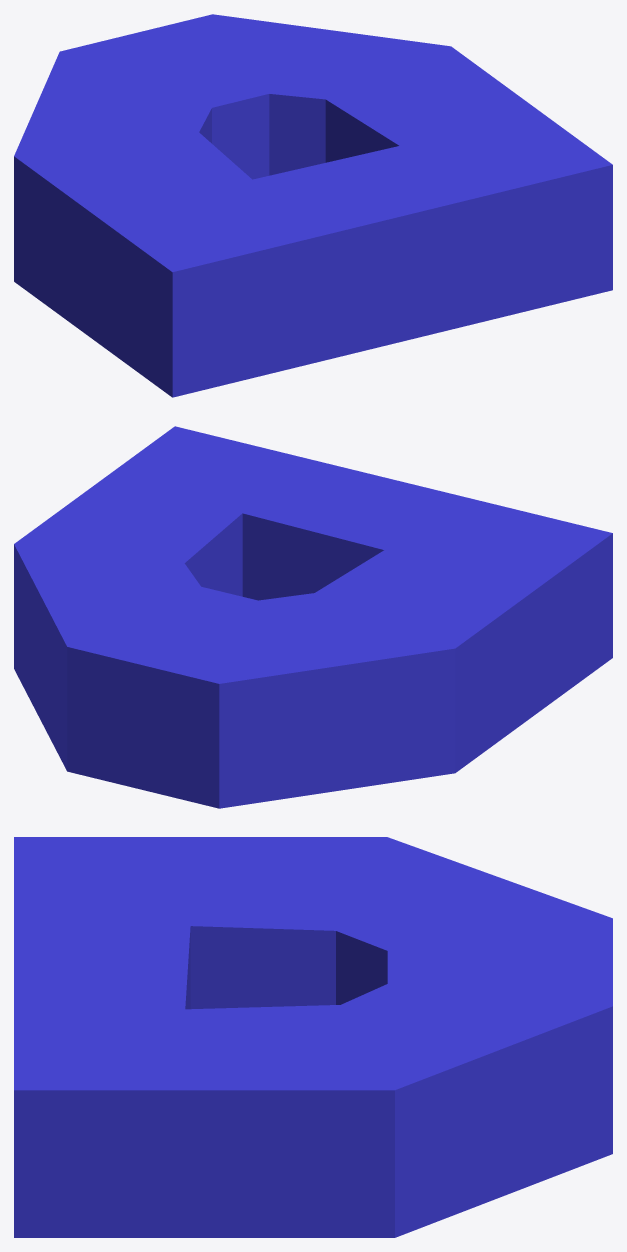
Rendered from blue_d.fbx.
The picture shows the model from 3 angles, top to bottom: view 1: azimuth 30°, elevation 25°; view 2: azimuth 150°, elevation 25°; view 3: azimuth 270°, elevation 25°; orthographic projection. The views are drawn at different scales.
Parts seen in each view (by area): view 1: Plane.003; view 2: Plane.003; view 3: Plane.003.
Part boxes in pixels (box(x1,y1,x2,y2)): Plane.003: box(14, 14, 612, 397); Plane.003: box(14, 426, 612, 808); Plane.003: box(14, 837, 612, 1237).
Bounding box in the file's own units: 471 × 128 × 471.
